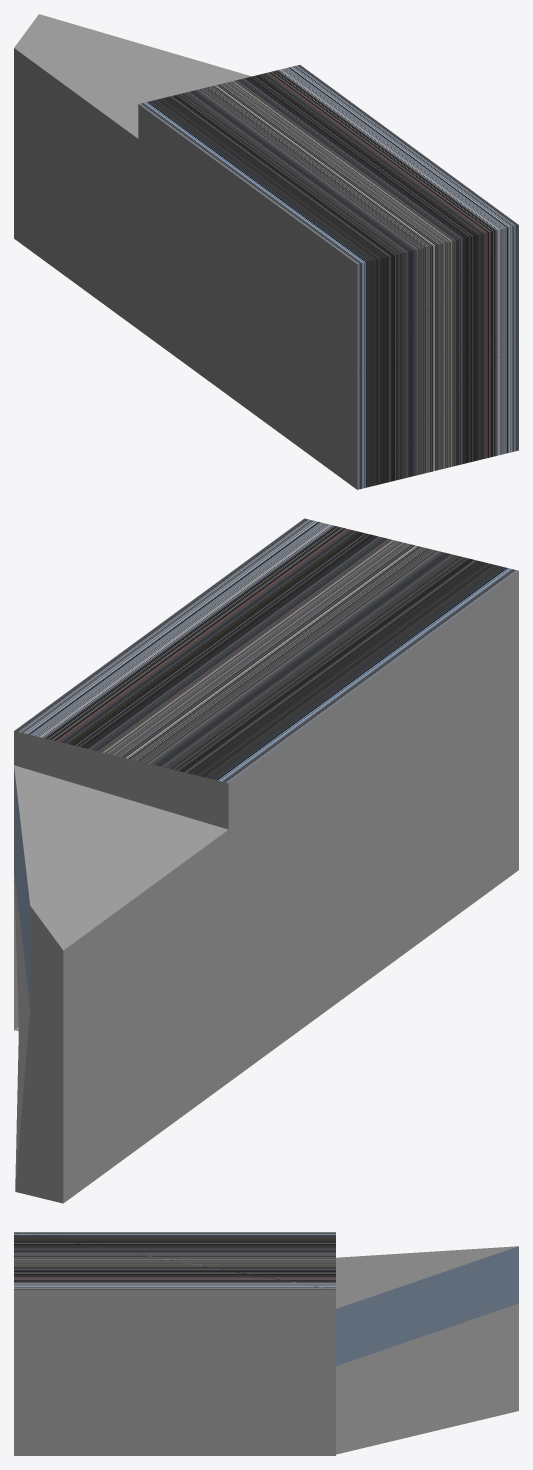
The model's file is someShit5.obj.
3 renders of one model, top to bottom at view 1: azimuth 30°, elevation 25°; view 2: azimuth 150°, elevation 25°; view 3: azimuth 270°, elevation 25°, orthographic. The views are drawn at different scales.
Parts seen in each view (by area): view 1: Plane.005; view 2: Plane.005; view 3: Plane.005.
Boxes of the visible parts, x1,y1,x2,y2 form: Plane.005: [14, 14, 518, 489]; Plane.005: [14, 518, 518, 1203]; Plane.005: [14, 1232, 518, 1455].
Bounding box in the file's own units: 30 × 40 × 110.
2 materials, 1 textured.
